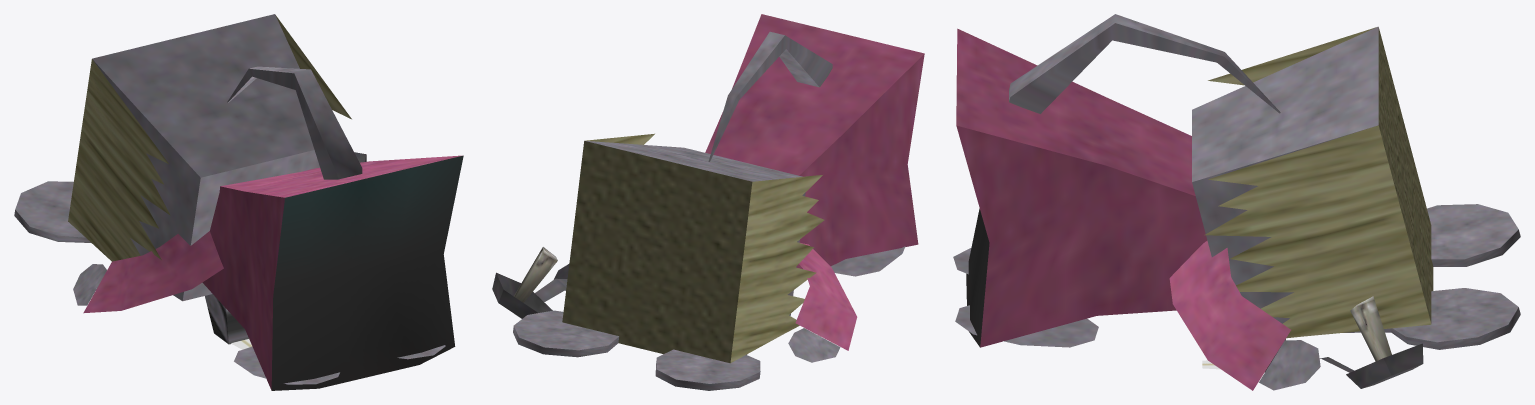
Rendered from ghs_02.ico.obj.
3 views of the same model, side by side, from view 1: azimuth 30°, elevation 25°; view 2: azimuth 150°, elevation 25°; view 3: azimuth 270°, elevation 25° (orthographic). The views are drawn at different scales.
Bounding box in the file's own units: 2.88 × 2.59 × 3.84.
1 material, 1 textured.
